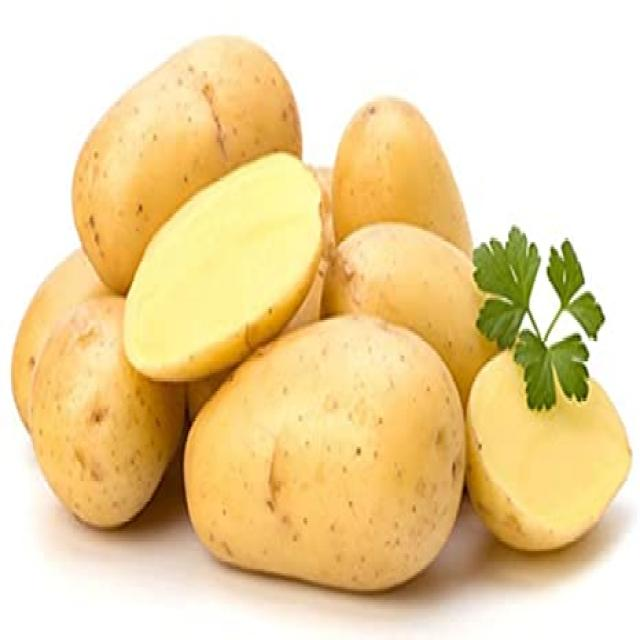potato: (191, 323, 465, 588), (74, 35, 303, 297), (126, 148, 329, 381), (28, 283, 188, 528), (462, 343, 630, 552), (331, 226, 508, 395), (332, 90, 476, 252)
